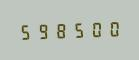eight: (52, 20, 68, 40)
five: (17, 21, 33, 41), (69, 20, 85, 39)
nine: (34, 21, 50, 40)
zero: (103, 18, 119, 38), (86, 19, 102, 38)
